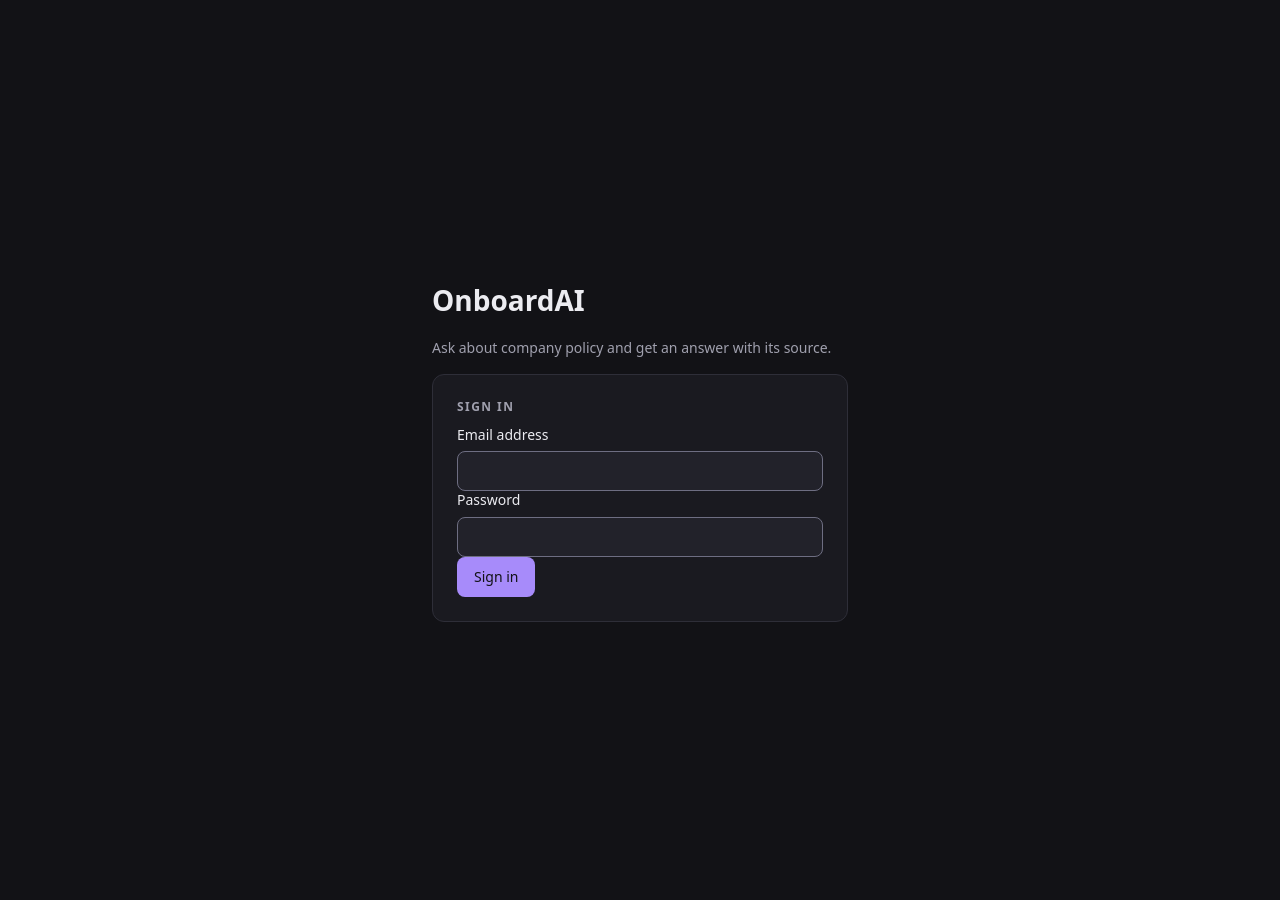
Test case: signing in › finishes the journey the guard interrupted
In the field labelled "Email address": (640, 471) [457,451,823,491], type "hr@onboardai.example"
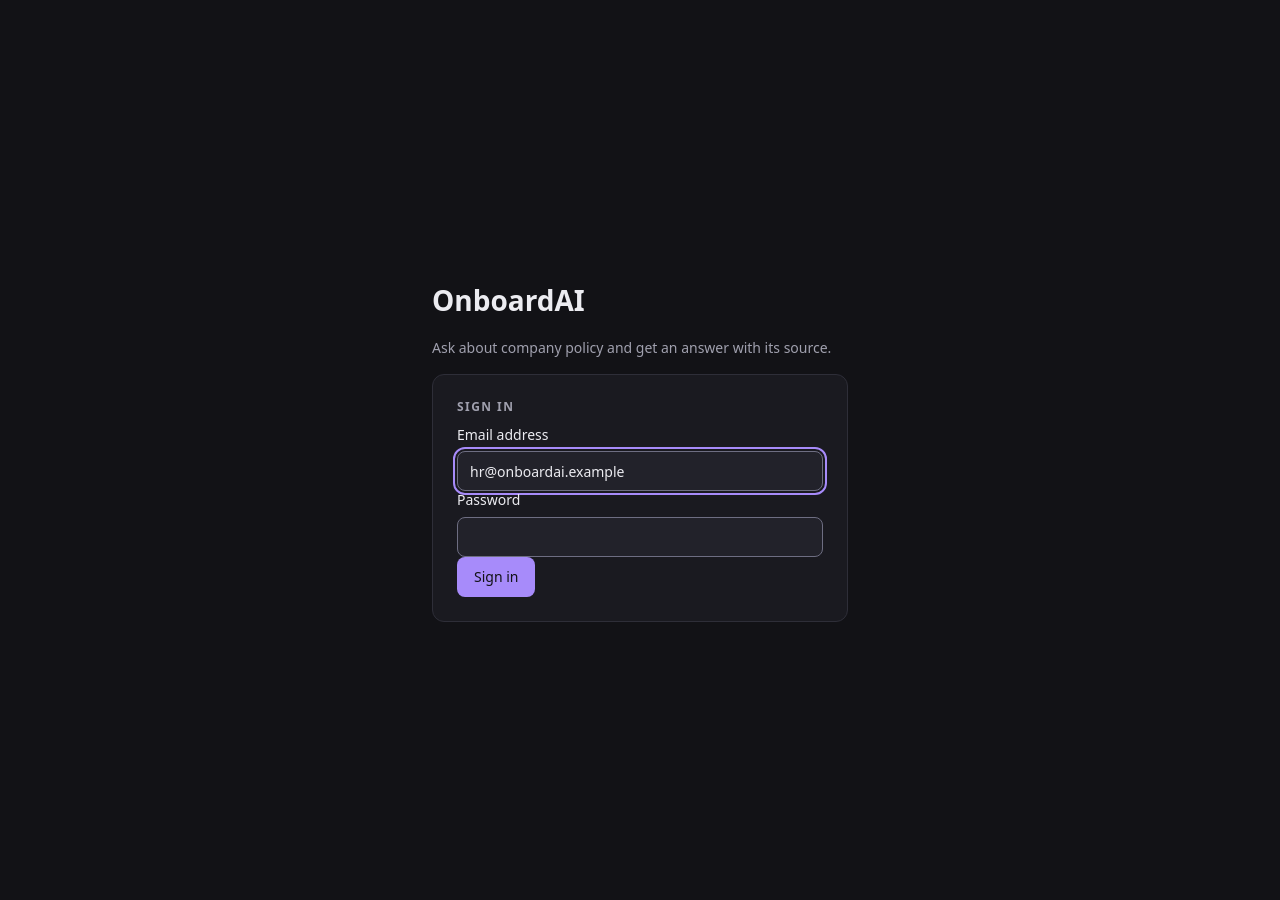
In the password field labelled "Password": (640, 536) [457,516,823,556], type "a development password"
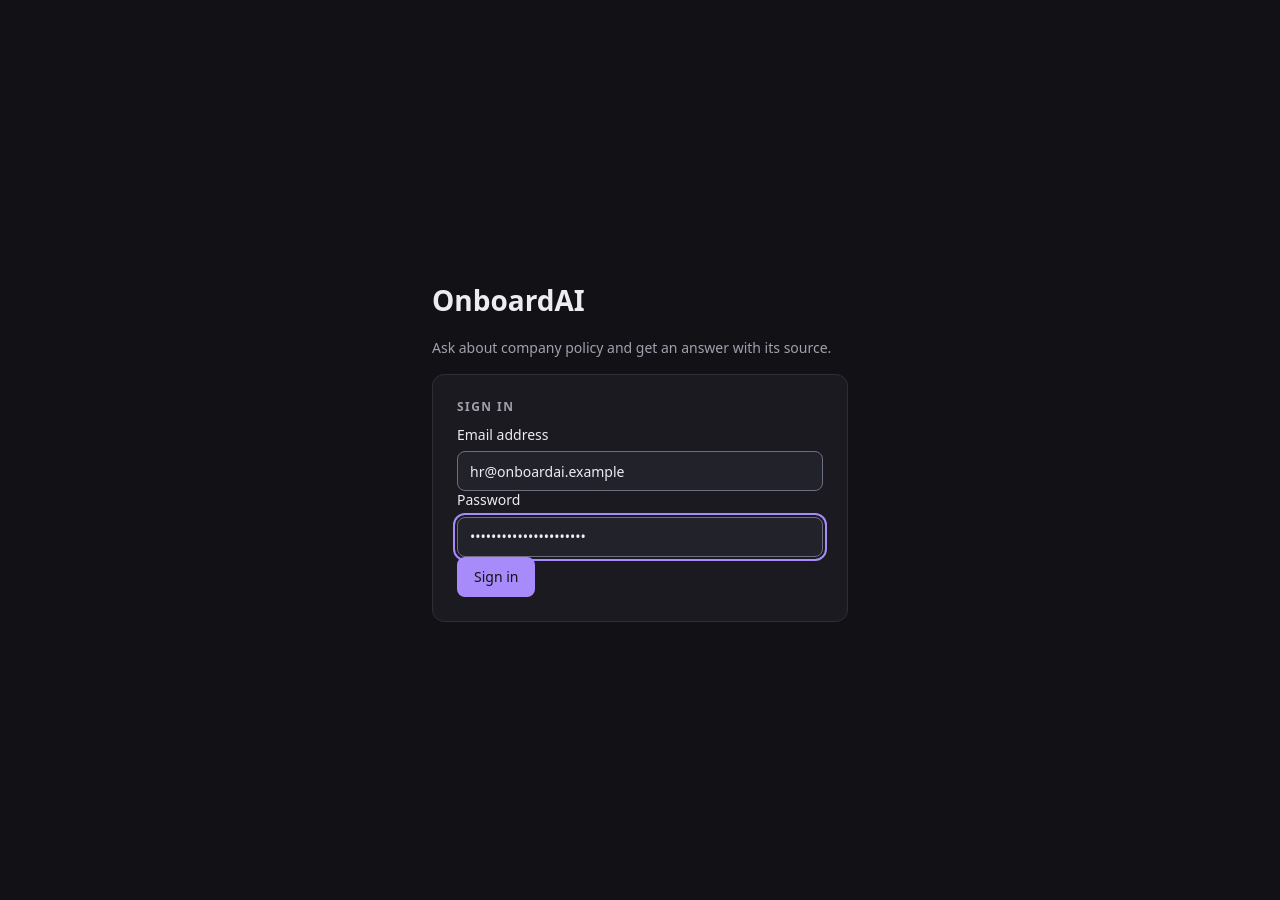
Click the button "Sign in": (496, 576) [457,556,536,596]
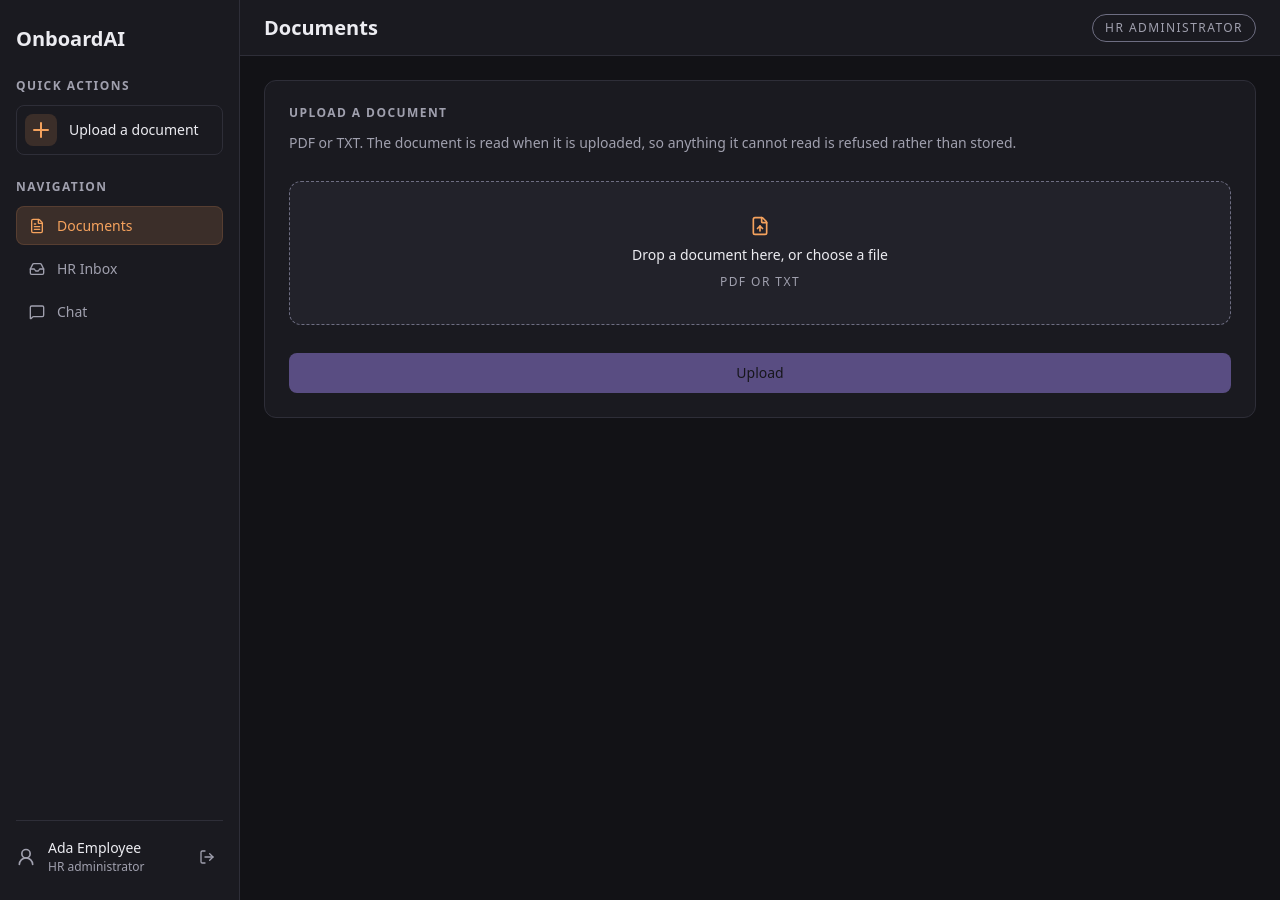
Result: the heading "Documents" is shown at [264,15,378,40]
